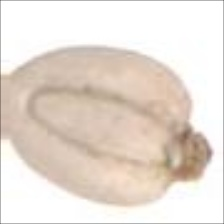L5: (24, 83, 189, 172), (164, 118, 217, 187), (1, 69, 14, 144)
L6: (1, 44, 216, 211)
